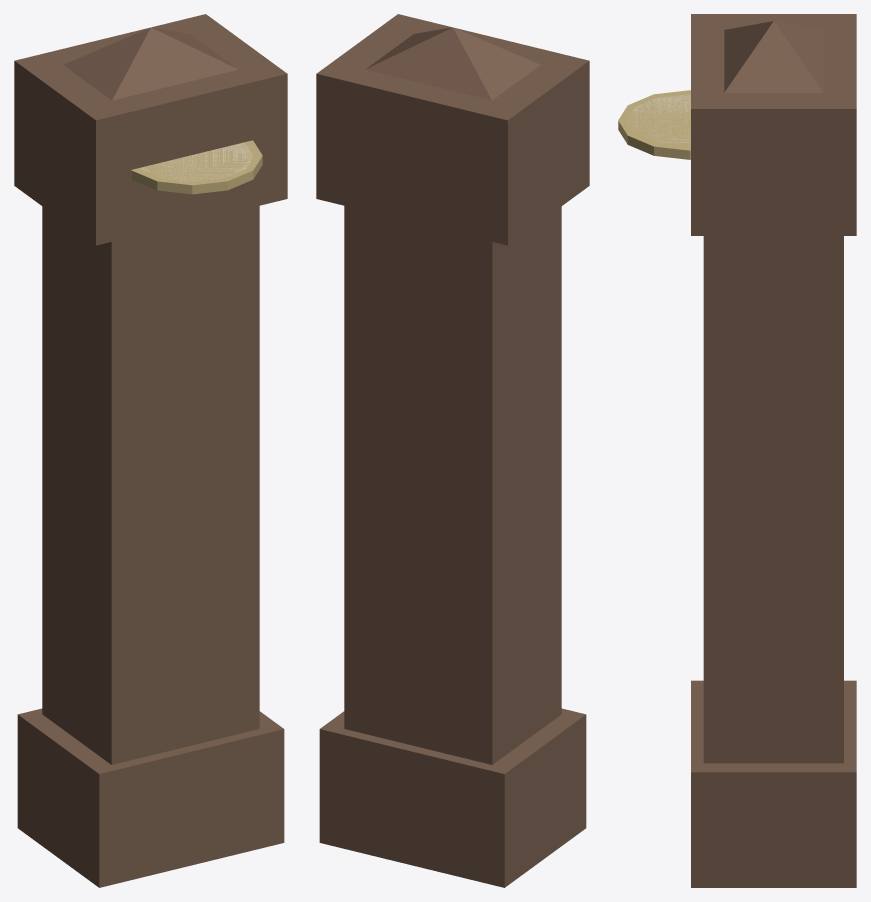
Rendered from haunted_clock_tall.glb.
3 renders of one model, left to right at view 1: azimuth 30°, elevation 25°; view 2: azimuth 150°, elevation 25°; view 3: azimuth 270°, elevation 25°, orthographic.
Parts seen in each view (by area): view 1: Haunted_Clock_Tall; view 2: Haunted_Clock_Tall; view 3: Haunted_Clock_Tall.
Boxes of the visible parts, x1,y1,x2,y2 form: Haunted_Clock_Tall: (14, 14, 287, 887); Haunted_Clock_Tall: (316, 14, 589, 887); Haunted_Clock_Tall: (618, 14, 856, 887).
Bounding box in the file's own units: 0.88 × 3.55 × 0.935.
